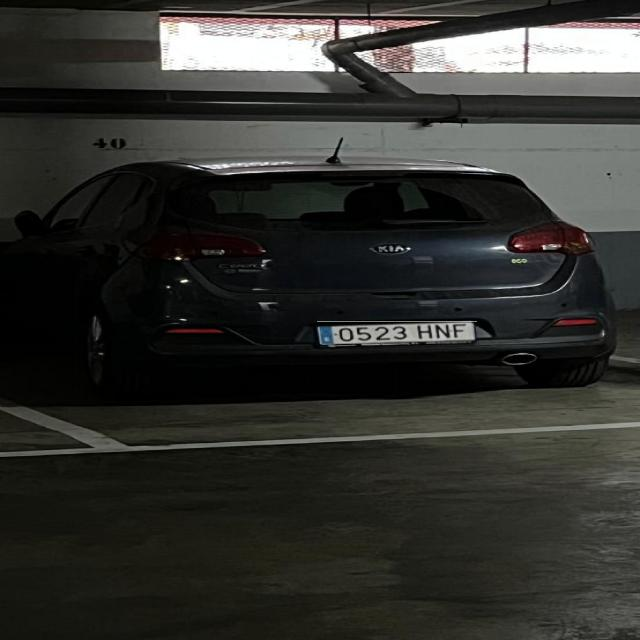License-Plate: (317, 321, 477, 344)
